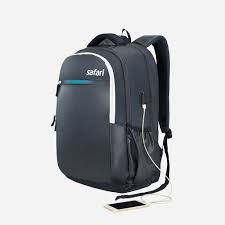backpack: (51, 28, 173, 211)
